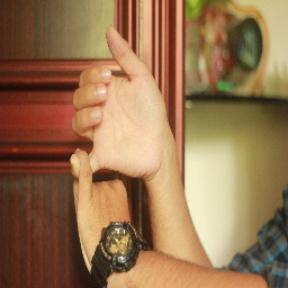S: (60, 22, 181, 240)
